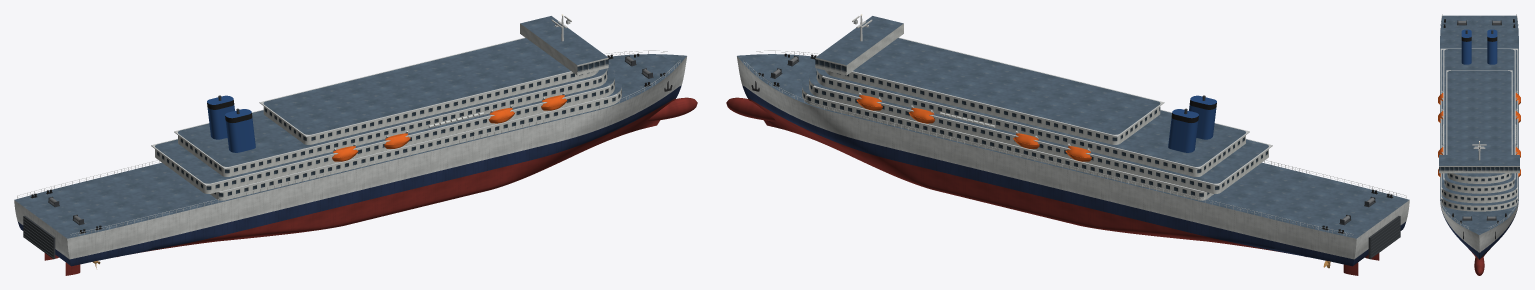
Rendered from ro-ro-ferry-90b664df.glb.
The picture shows the model from 3 angles, left to right: view 1: azimuth 30°, elevation 25°; view 2: azimuth 150°, elevation 25°; view 3: azimuth 270°, elevation 25°; orthographic projection. The views are drawn at different scales.
Parts seen in each view (by area): view 1: Hull, Superstructure, Deck edges, Bridge, Funnels, Deck railings, Lifeboats, Stern ramp door; view 2: Hull, Superstructure, Deck edges, Bridge, Funnels, Deck railings, Lifeboats, Stern ramp door; view 3: Superstructure, Hull, Bridge, Deck edges, Funnels, Lifeboats, Deck railings, Aft mooring gear, Foredeck mooring gear, Radar mast, Liferaft canisters.
Part boxes in pixels (box(x1,y1,x2,y2)): Hull: box(14, 54, 697, 266); Superstructure: box(155, 38, 621, 200); Deck edges: box(151, 37, 617, 192); Bridge: box(520, 16, 608, 75); Funnels: box(207, 95, 255, 152); Deck railings: box(17, 50, 680, 235); Lifeboats: box(332, 95, 567, 161); Stern ramp door: box(23, 216, 55, 259); Hull: box(726, 54, 1409, 266); Superstructure: box(802, 38, 1268, 200); Deck edges: box(806, 37, 1272, 192); Bridge: box(815, 16, 903, 75); Funnels: box(1168, 95, 1216, 152); Deck railings: box(743, 50, 1406, 235); Lifeboats: box(856, 95, 1091, 161); Stern ramp door: box(1368, 216, 1400, 259); Superstructure: box(1441, 49, 1517, 211); Hull: box(1440, 15, 1518, 275); Bridge: box(1439, 155, 1519, 173); Deck edges: box(1440, 48, 1518, 198); Funnels: box(1461, 29, 1497, 64); Lifeboats: box(1438, 93, 1520, 177); Deck railings: box(1440, 14, 1518, 229); Aft mooring gear: box(1443, 19, 1515, 27); Foredeck mooring gear: box(1452, 213, 1506, 223); Radar mast: box(1472, 141, 1486, 160); Liferaft canisters: box(1442, 124, 1516, 144).
Bounding box in the file's own units: 189 × 36.7 × 29.1.
19 materials, 19 textured.
